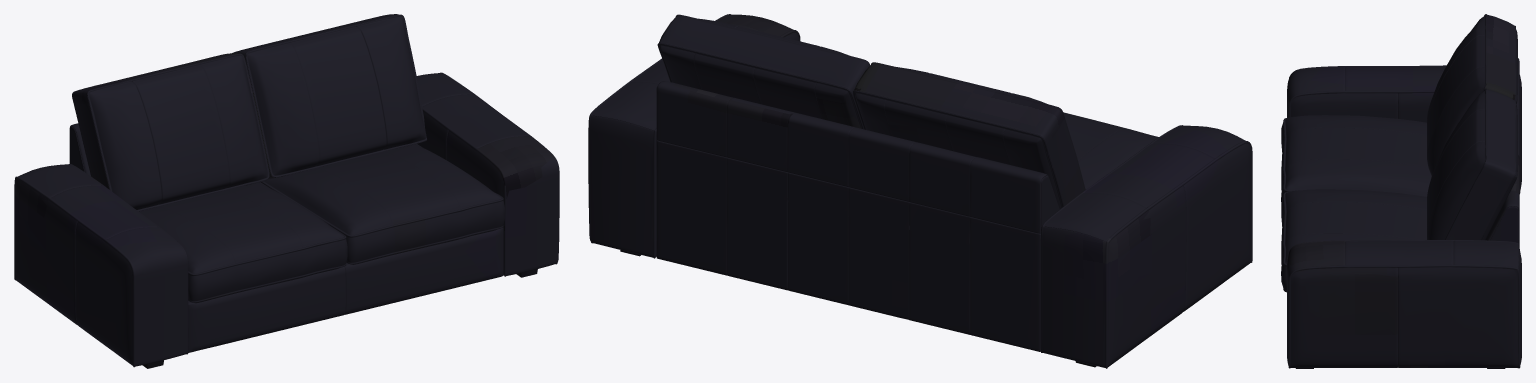
The model's file is cover-grann-bomstad-czarny.glb.
3 renders of one model, left to right at view 1: azimuth 30°, elevation 25°; view 2: azimuth 150°, elevation 25°; view 3: azimuth 270°, elevation 25°, orthographic. The views are drawn at different scales.
Parts seen in each view (by area): view 1: Mesh_0; view 2: Mesh_0; view 3: Mesh_0.
Boxes of the visible parts, left/top/right/bottom form: Mesh_0: left=14, top=14, right=559, bottom=368; Mesh_0: left=588, top=14, right=1252, bottom=368; Mesh_0: left=1281, top=14, right=1521, bottom=368.
Bounding box in the file's own units: 1.9 × 0.8299 × 0.9501.
Materials: 2 (2 with a texture image).
